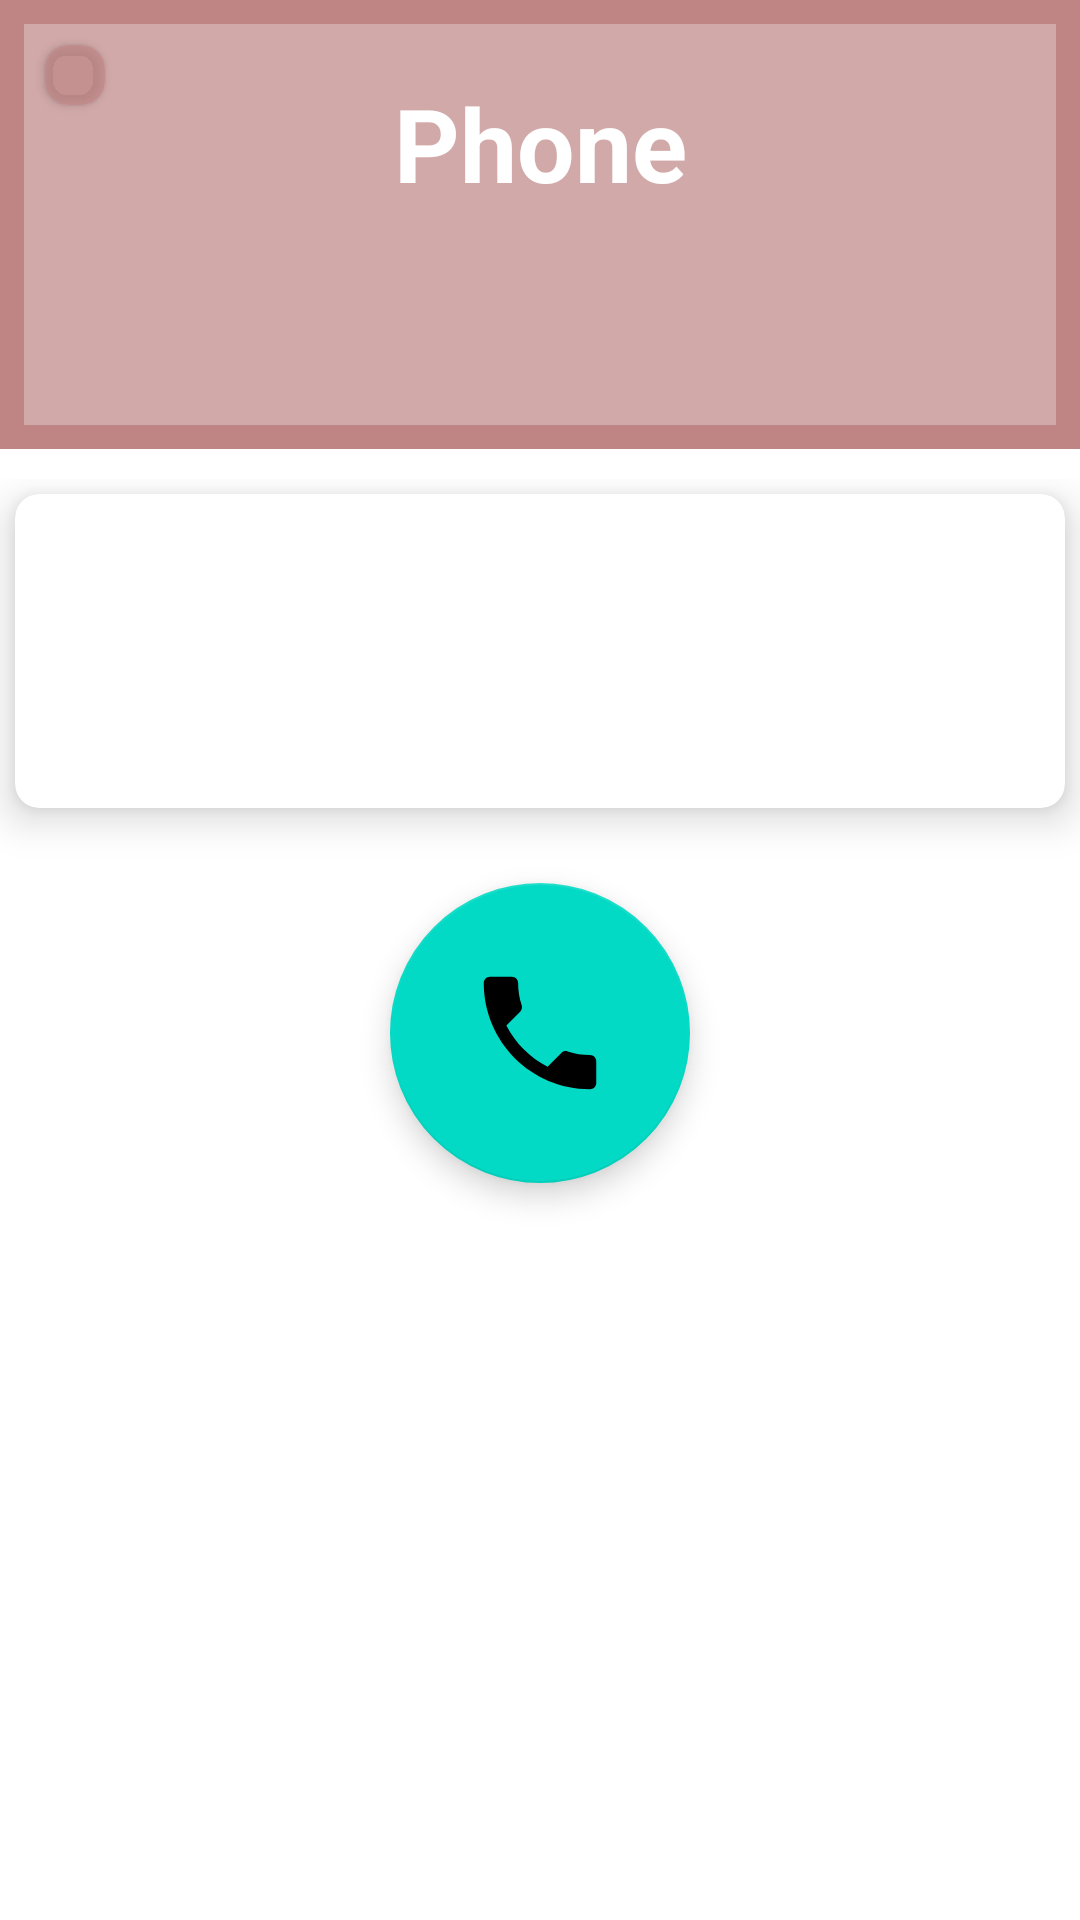

Named icons in this screenshot (1080 × 1920) and their centers, (x,y):
phone: (540,1033)
